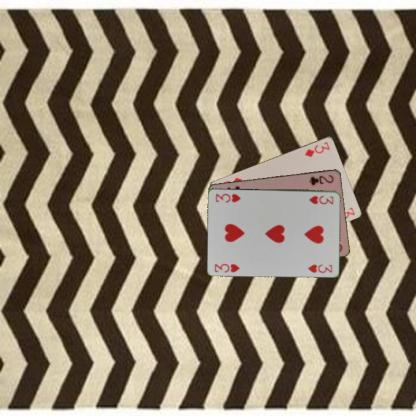2c: (307, 172, 334, 186)
3d: (302, 140, 331, 158)
3h: (306, 193, 335, 205), (212, 261, 241, 273)
